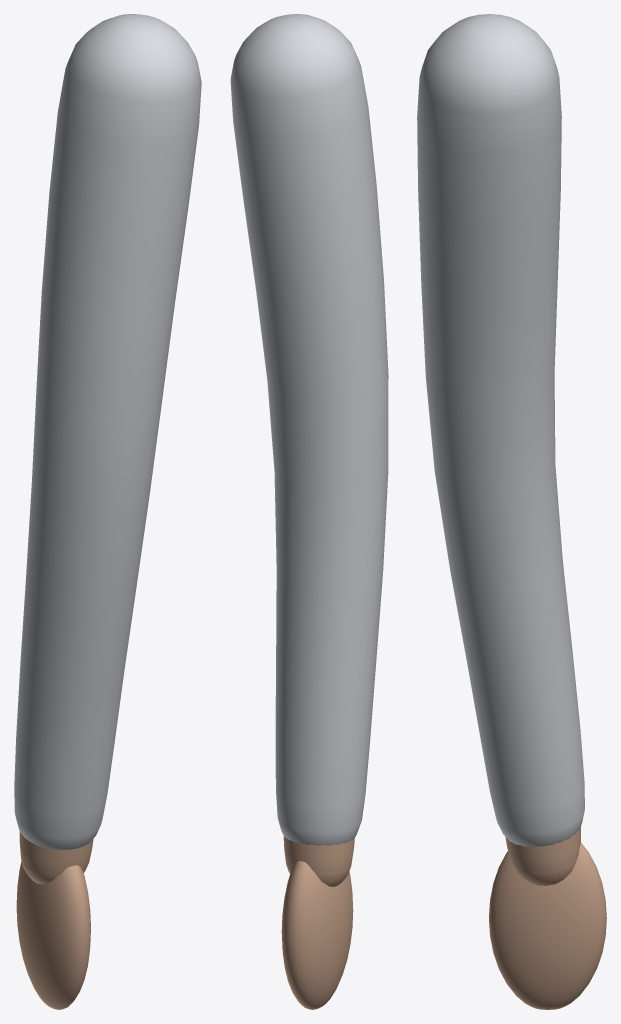
The model's file is linh_tay_trai.glb.
The picture shows the model from 3 angles, left to right: view 1: azimuth 30°, elevation 25°; view 2: azimuth 150°, elevation 25°; view 3: azimuth 270°, elevation 25°; orthographic projection. The views are drawn at different scales.
Parts seen in each view (by area): view 1: linh_tay_trai; view 2: linh_tay_trai; view 3: linh_tay_trai.
Part boxes in pixels (x1,y1,x2,y2): linh_tay_trai: (14,14,201,1009); linh_tay_trai: (230,14,388,1009); linh_tay_trai: (417,14,606,1009).
Size of the model in its own units: 0.1064 by 0.6711 by 0.1138.
